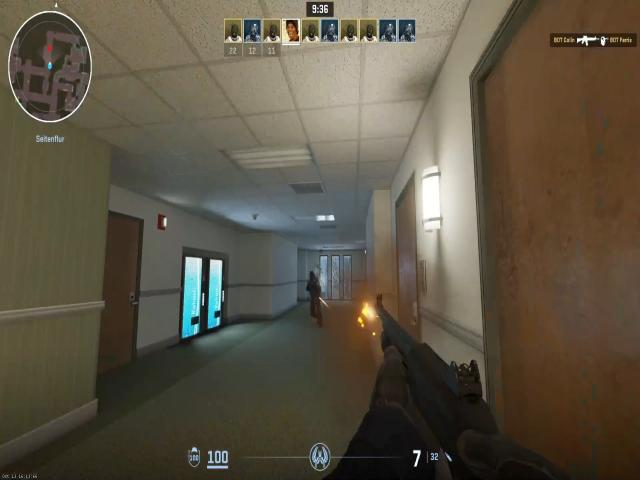CT: (304, 267, 326, 329)
CT-Head: (309, 269, 317, 284)
